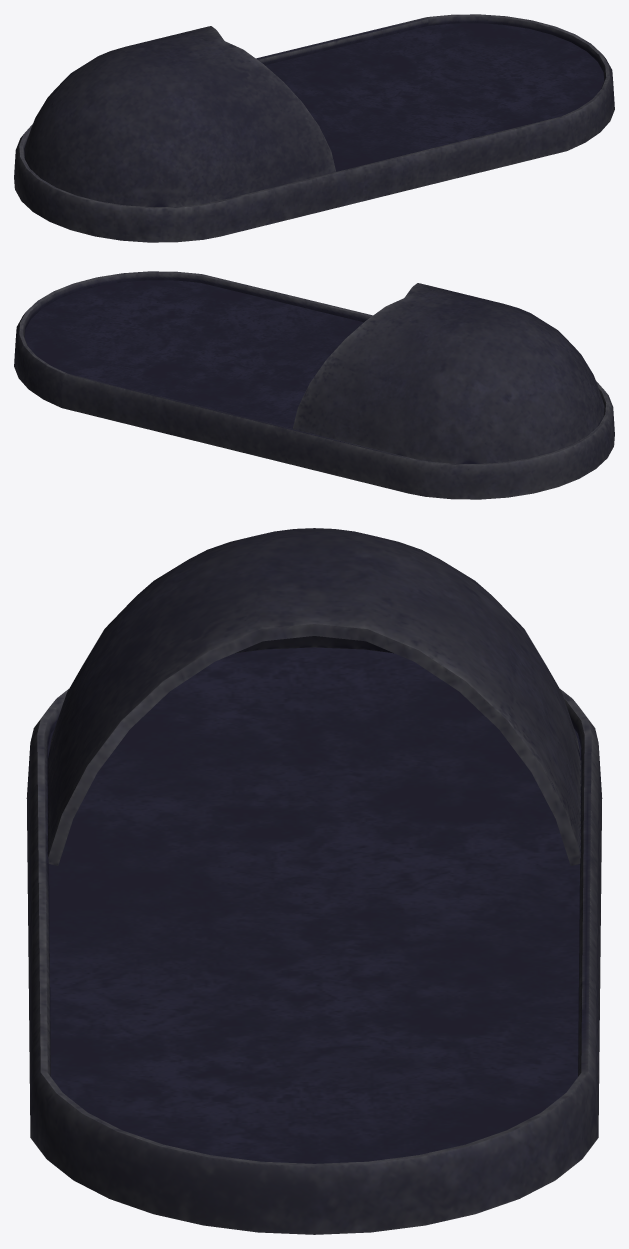
File: tapok.glb
The picture shows the model from 3 angles, top to bottom: view 1: azimuth 30°, elevation 25°; view 2: azimuth 150°, elevation 25°; view 3: azimuth 270°, elevation 25°; orthographic projection. The views are drawn at different scales.
Parts seen in each view (by area): view 1: tapok; view 2: tapok; view 3: tapok.
Boxes of the visible parts, left/top/right/bottom form: tapok: left=14, top=14, right=614, bottom=242; tapok: left=14, top=271, right=614, bottom=499; tapok: left=26, top=528, right=602, bottom=1234.
Size of the model in its own units: 0.3176 by 0.067 by 0.1406.
Materials: 1 (1 with a texture image).
